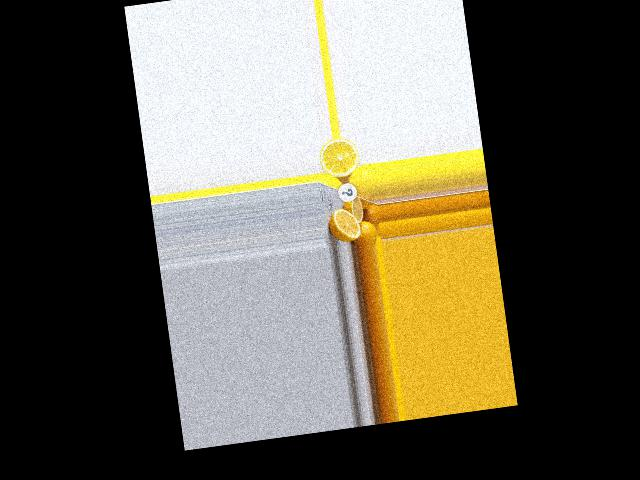lemon: (345, 161, 376, 204)
